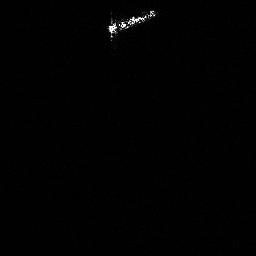ship: (103, 7, 158, 42)
